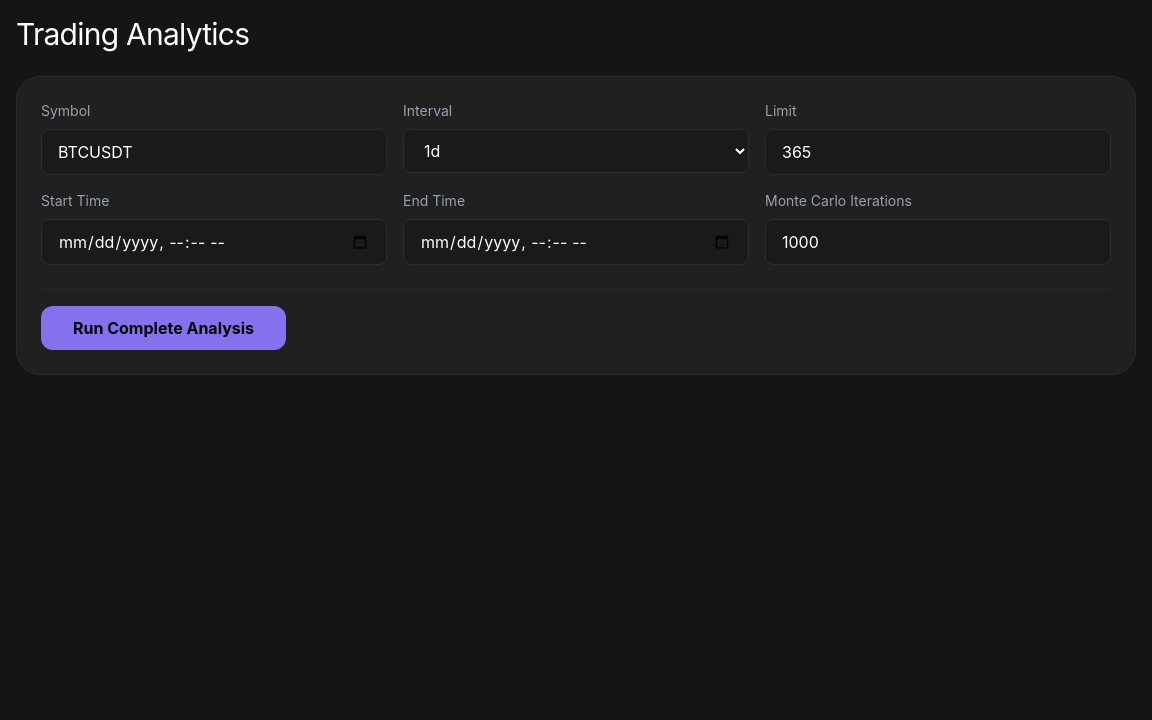
Test case: Analytics component › runs full analysis and displays results
Note: Trigger a full analysis
Click the button "Run Complete Analysis".
click(164, 328)  # box left=41, top=306, right=286, bottom=350
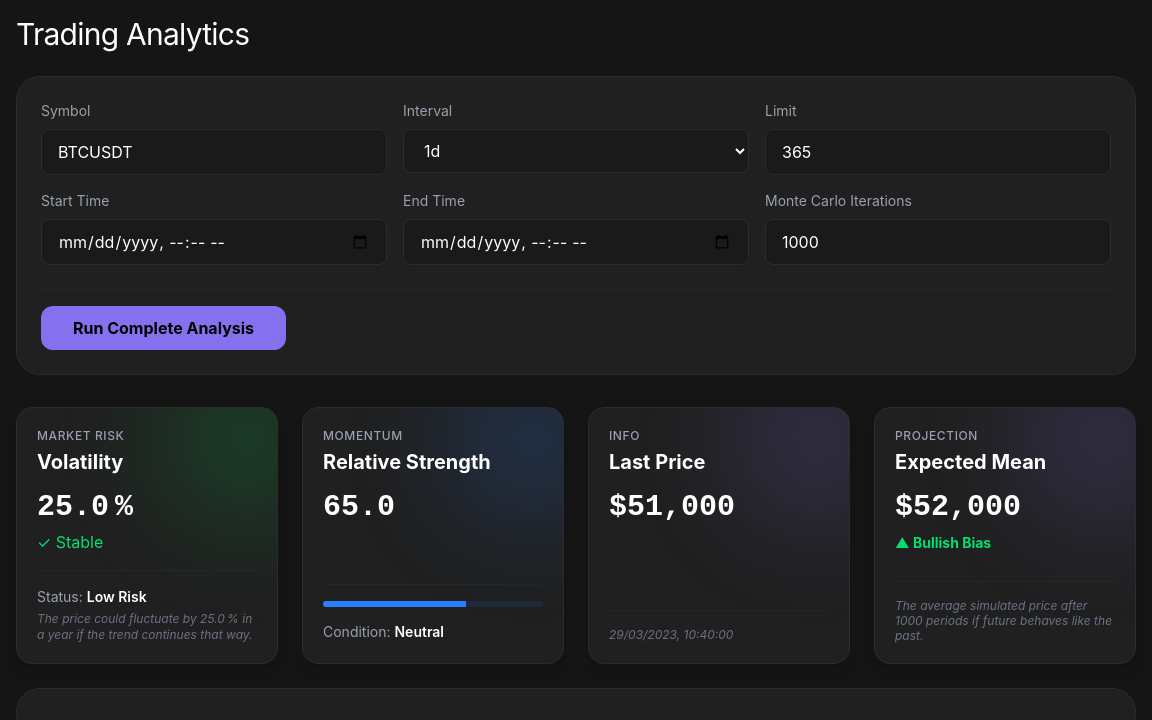
Expected: the heading "Volatility" is shown, left=37, top=450, right=123, bottom=474
Expected: the heading "Relative Strength" is shown, left=323, top=450, right=491, bottom=474
Expected: the heading "Expected Mean" is shown, left=895, top=450, right=1046, bottom=474
